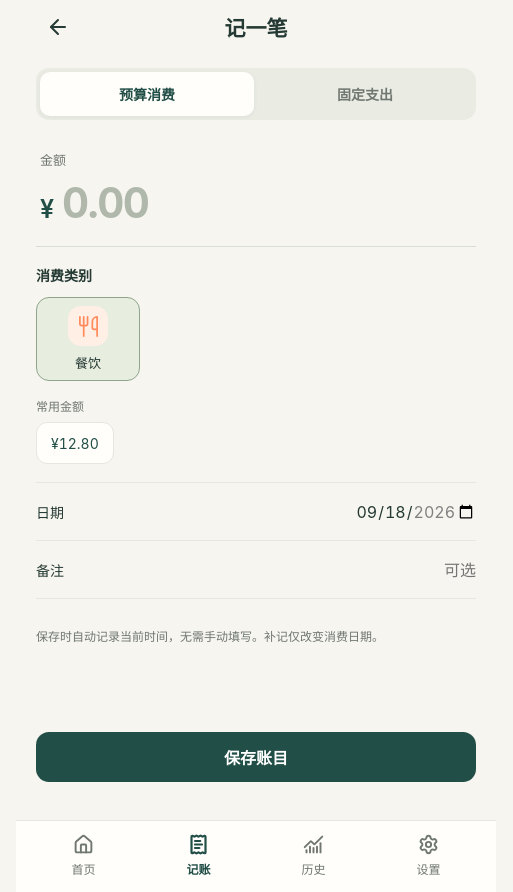
Test: manual entry › shows validation instead of saving an invalid amount
The image size is (513, 892).
Check: the heading "记一笔" is shown, box [224,16,288,41]
Click the button "保存账目" at (256, 757), box [36,732,476,782]
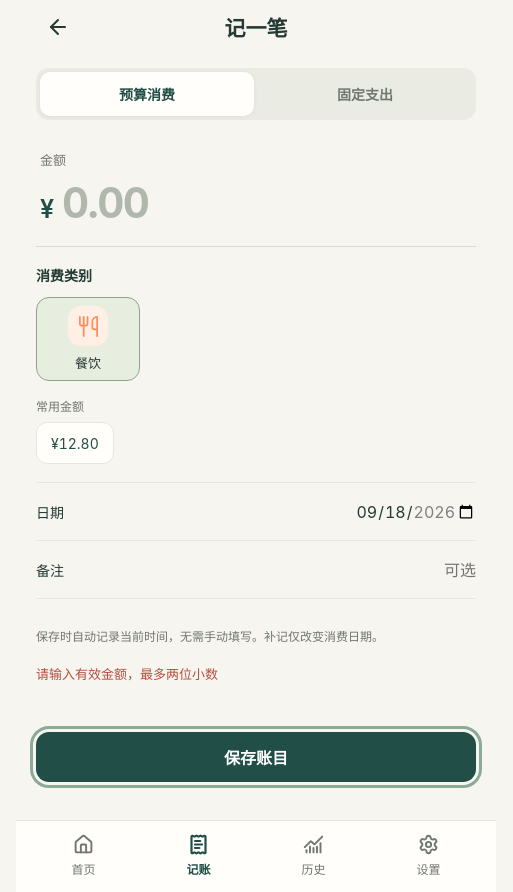
Check: the message shows "请输入有效金额", box [36,666,218,682]
